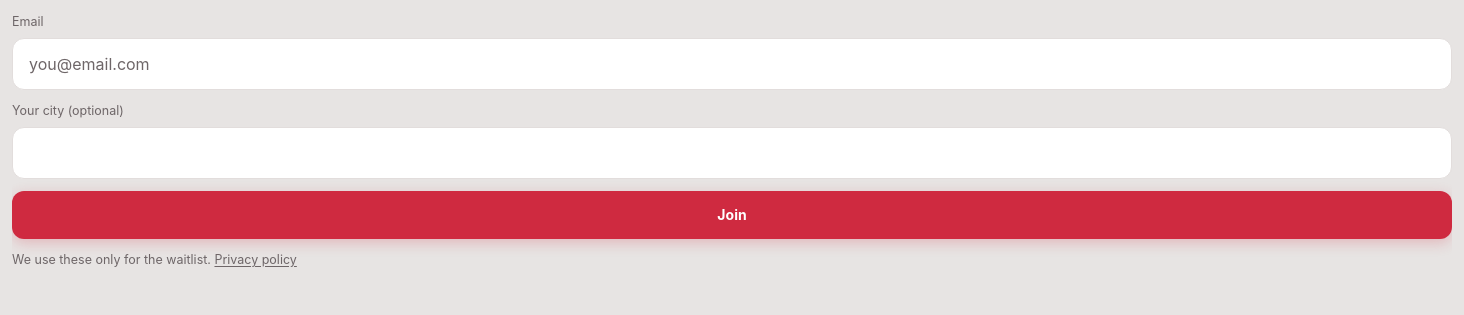
Test: WaitlistForm › says to wait when the API says too many tries
This screenshot has width=1464, height=315.
Type "priya@example.com" into the field labelled "Email" at (732, 64), box [12,38,1452,90]
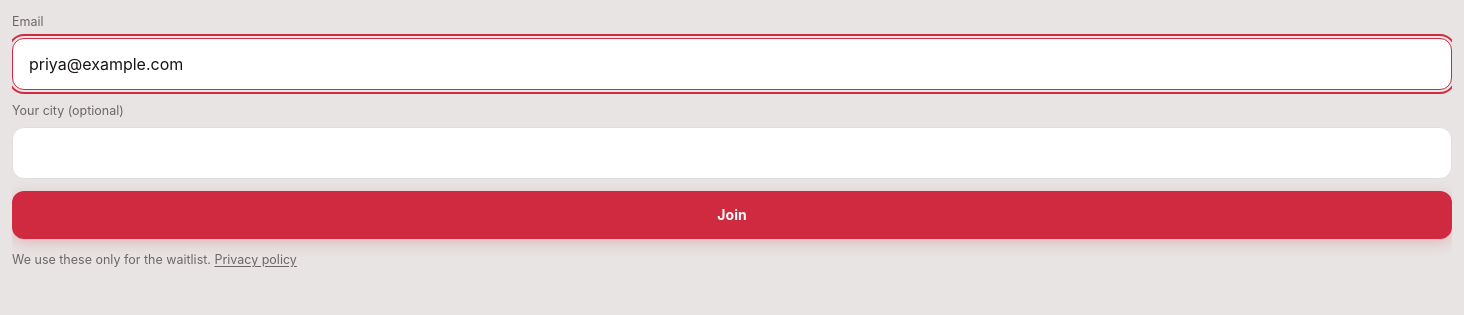
Click the button "Join" at (732, 215), box [12,191,1452,239]
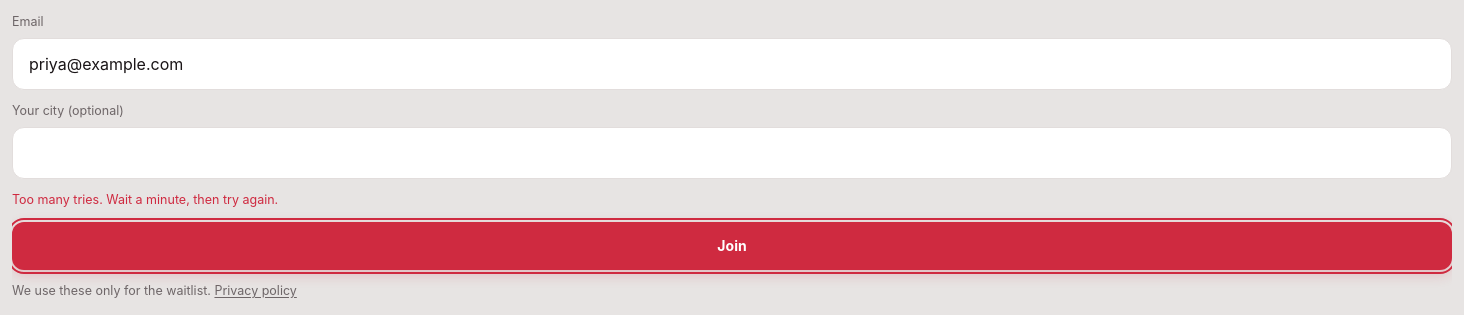
Now the message reads "Too many tries. Wait a minute, then try again.", box [12,192,278,207]
